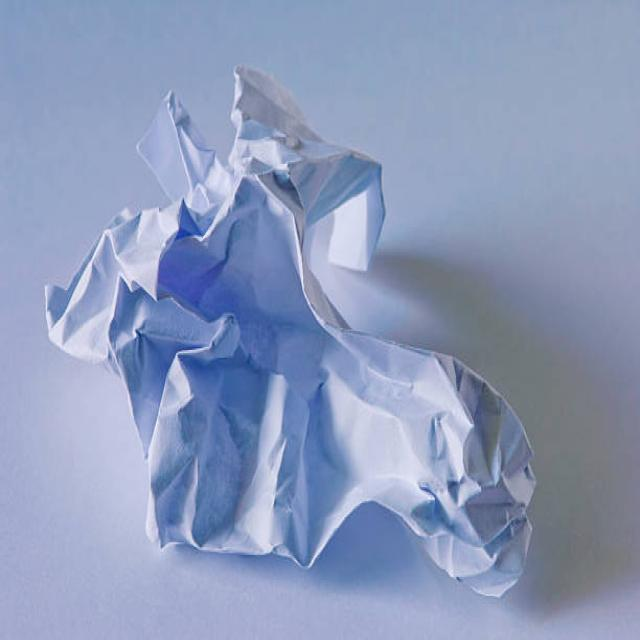electronic: (44, 61, 536, 599)
